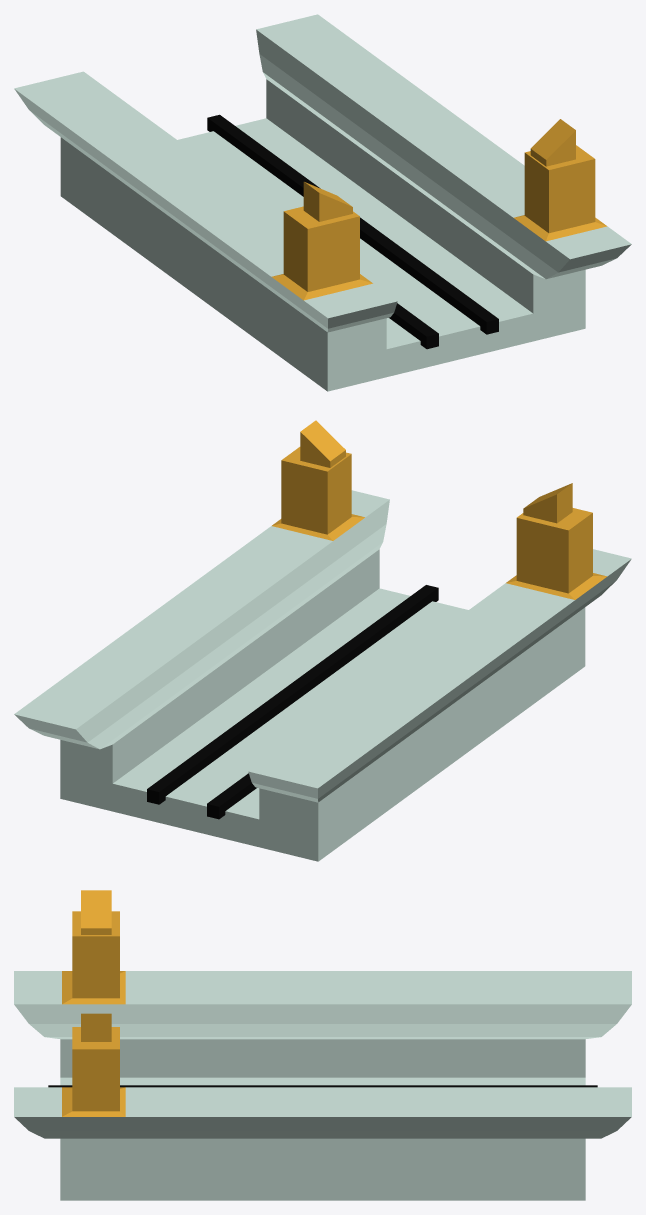
The model's file is Port.fbx.
The picture shows the model from 3 angles, top to bottom: view 1: azimuth 30°, elevation 25°; view 2: azimuth 150°, elevation 25°; view 3: azimuth 270°, elevation 25°; orthographic projection.
Visible parts, largest first — view 1: Plane; view 2: Plane; view 3: Plane.
Part boxes in pixels (left/top/right/bottom): Plane: left=14, top=14, right=631, bottom=391; Plane: left=14, top=420, right=631, bottom=861; Plane: left=14, top=890, right=631, bottom=1200.
Size of the model in its own units: 456 by 274 by 817.
